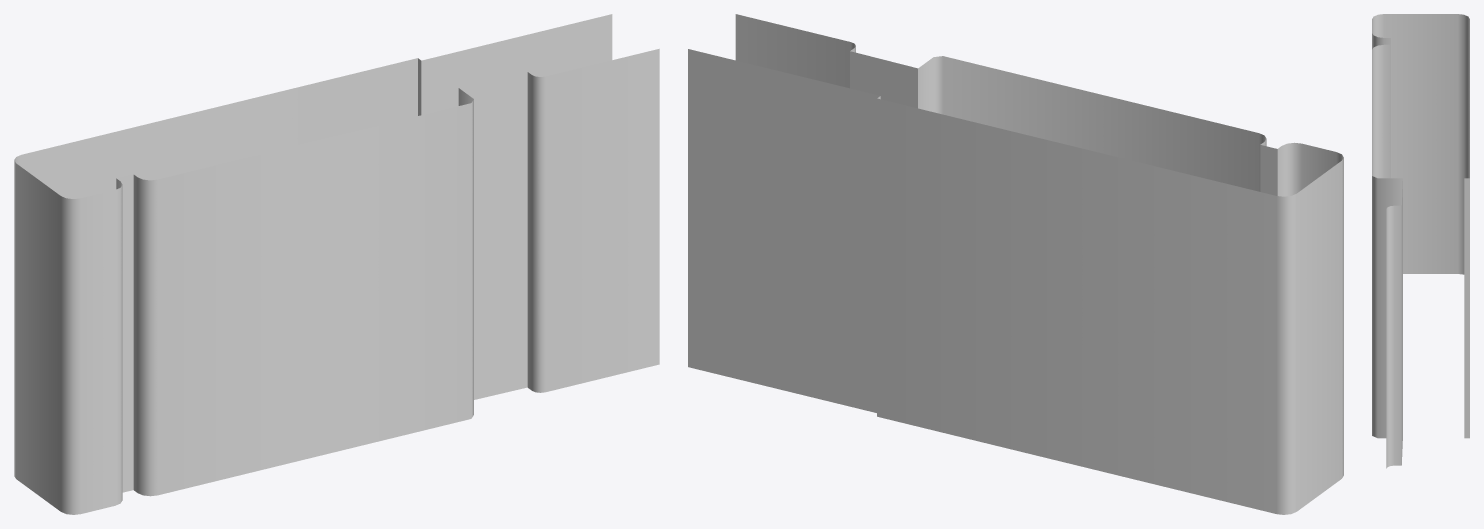
File: original-68.obj
3 renders of one model, left to right at view 1: azimuth 30°, elevation 25°; view 2: azimuth 150°, elevation 25°; view 3: azimuth 270°, elevation 25°, orthographic. The views are drawn at different scales.
Visible parts, largest first — view 1: DF_21_CL2/DF_21_CL/mesh28/mesh28-geometry#mesh28-geometry; view 2: DF_21_CL2/DF_21_CL/mesh28/mesh28-geometry#mesh28-geometry; view 3: DF_21_CL2/DF_21_CL/mesh28/mesh28-geometry#mesh28-geometry.
Boxes of the visible parts, x1,y1,x2,y2 form: DF_21_CL2/DF_21_CL/mesh28/mesh28-geometry#mesh28-geometry: (14,14,659,514); DF_21_CL2/DF_21_CL/mesh28/mesh28-geometry#mesh28-geometry: (688,14,1343,514); DF_21_CL2/DF_21_CL/mesh28/mesh28-geometry#mesh28-geometry: (1372,14,1469,468).
Bounding box in the file's own units: 0.194 × 0.0975 × 0.0333.
